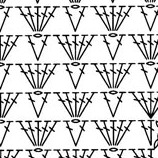enseble_chain: (106, 115, 141, 152), (30, 2, 65, 39), (107, 58, 142, 95), (67, 87, 102, 123), (32, 117, 66, 153), (70, 30, 103, 66), (32, 60, 65, 94), (124, 88, 156, 123), (0, 88, 29, 124), (87, 57, 116, 93), (52, 87, 81, 122), (13, 1, 41, 37), (66, 118, 96, 151), (0, 31, 28, 66), (127, 30, 155, 65), (52, 30, 80, 65), (30, 90, 58, 123), (105, 90, 133, 121), (67, 5, 94, 36), (106, 33, 132, 65), (92, 2, 117, 35), (0, 117, 22, 154), (31, 33, 56, 65), (0, 60, 21, 98), (18, 117, 42, 150), (134, 60, 157, 92), (0, 5, 20, 38), (136, 3, 158, 33), (137, 118, 158, 149), (108, 5, 124, 32), (143, 33, 158, 61)
fan: (99, 61, 119, 89), (69, 33, 86, 61), (141, 92, 157, 116)
